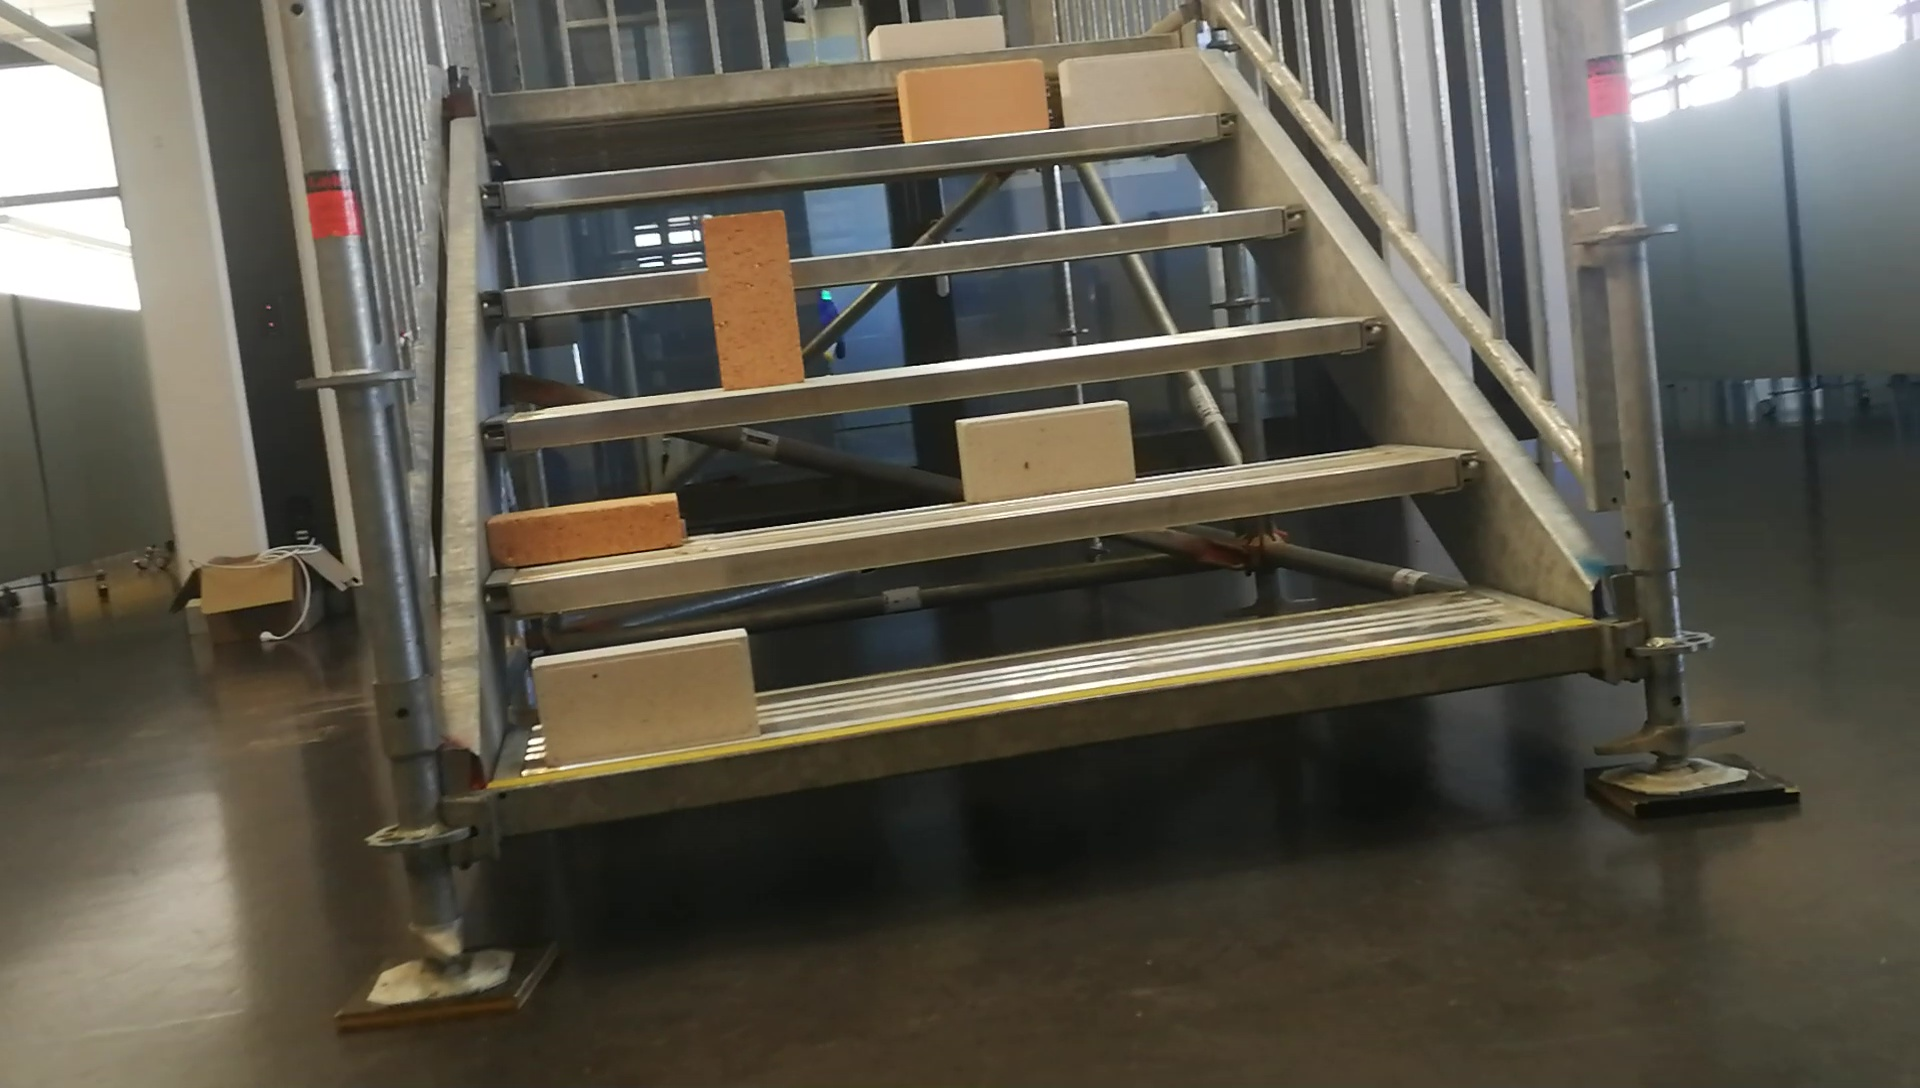brick: (531, 630, 752, 761), (700, 206, 804, 393), (957, 400, 1133, 497), (485, 497, 676, 560), (899, 61, 1044, 140), (1060, 53, 1203, 127), (868, 16, 1005, 58)
edge: (492, 619, 1597, 831), (480, 447, 1487, 613), (489, 315, 1387, 447), (483, 203, 1305, 315), (489, 109, 1234, 200)
stairs: (335, 0, 1803, 1035)
steps: (480, 34, 1607, 870)
